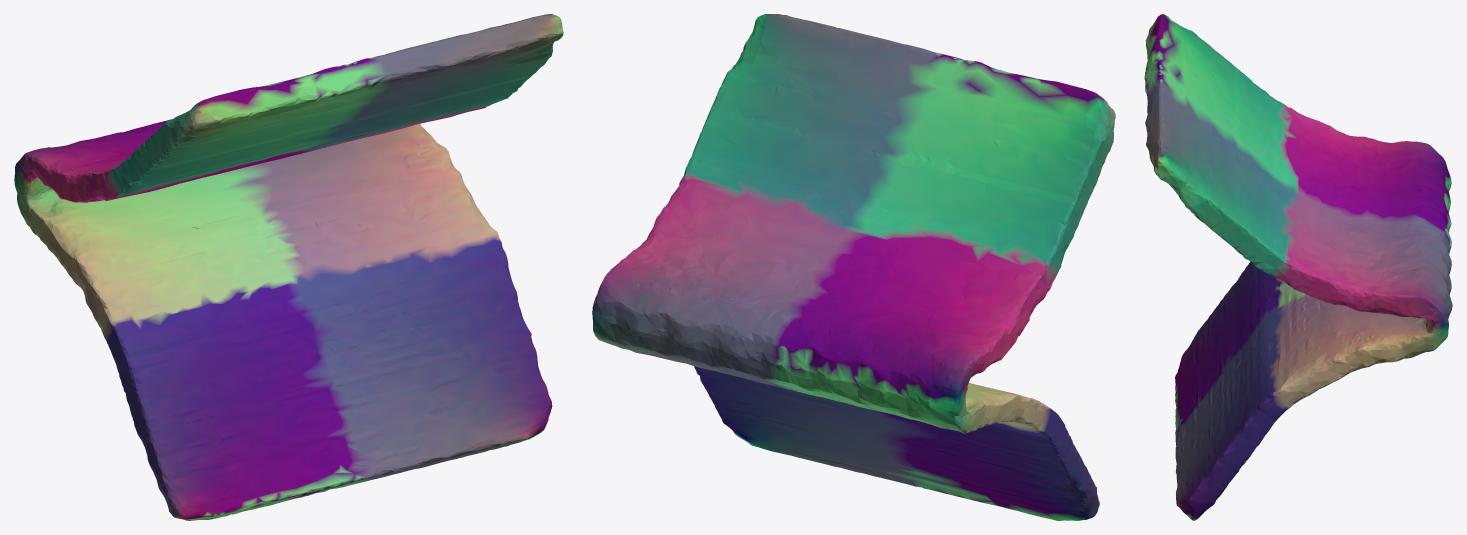
File: paper-16.off.obj
3 renders of one model, left to right at view 1: azimuth 30°, elevation 25°; view 2: azimuth 150°, elevation 25°; view 3: azimuth 270°, elevation 25°, orthographic. The views are drawn at different scales.
Bounding box in the file's own units: 1.14 × 1.24 × 0.9379.
